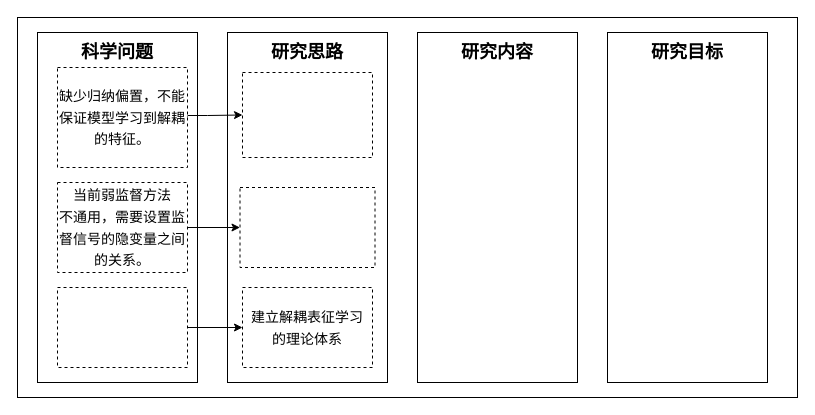
Some shapes in this 815 by 415 pixel diagram are drawn without their labels. The centre of each missing label's shape, as x and y in pixels:
"引入互信息作为衡量任意函数关系的指标" goes at pixel 307 227.
"引入少量标签作为监督信号" goes at pixel 307 115.
"解耦表征学习缺少理论保证" goes at pixel 122 327.
